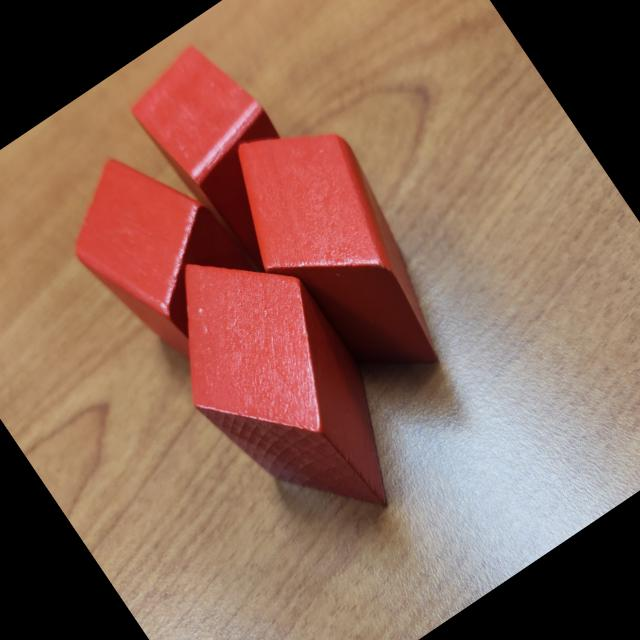red: (125, 213, 436, 568), (198, 94, 478, 414), (41, 120, 285, 380), (118, 29, 338, 280)
